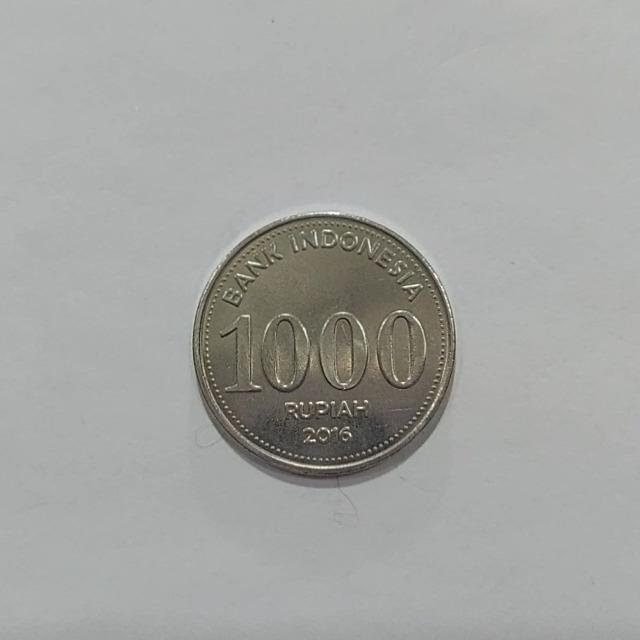Rp100: (190, 209, 457, 483)
